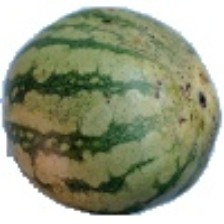watermelon: (40, 24, 191, 215)
